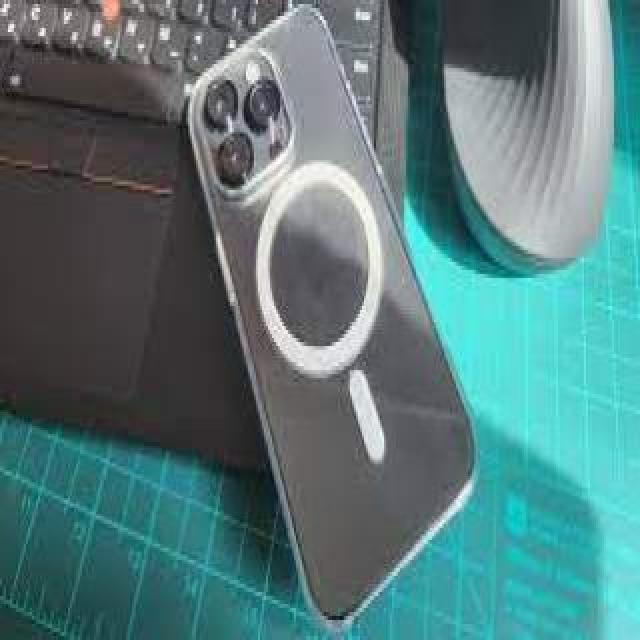smart phone: (149, 0, 524, 621)
